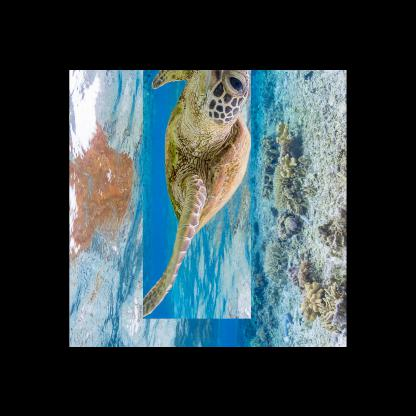turtle: (142, 69, 250, 317)
